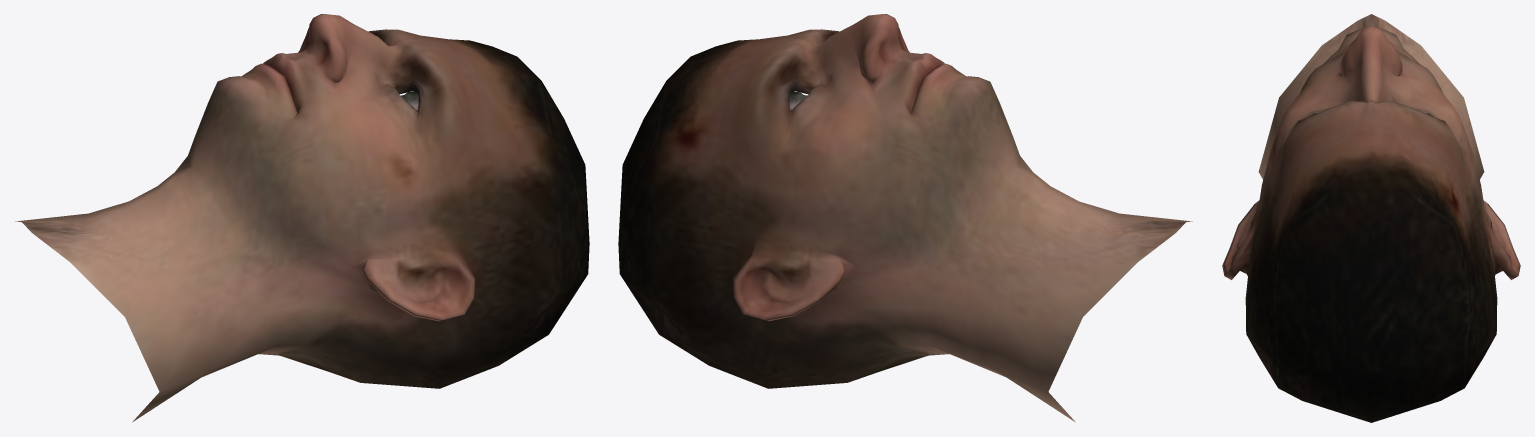
Rendered from head_german_normandy_christoph.glb.
The picture shows the model from 3 angles, left to right: view 1: azimuth 30°, elevation 25°; view 2: azimuth 150°, elevation 25°; view 3: azimuth 270°, elevation 25°; orthographic projection. The views are drawn at different scales.
Size of the model in its own units: 14.97 by 10.07 by 7.95.
1 material, 1 textured.
